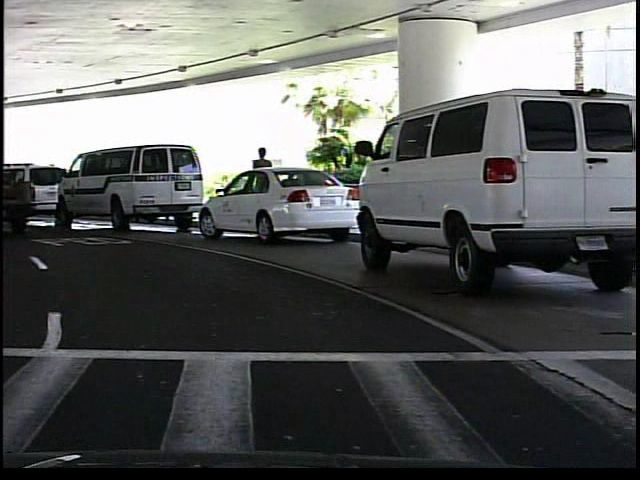person: (249, 144, 277, 222)
